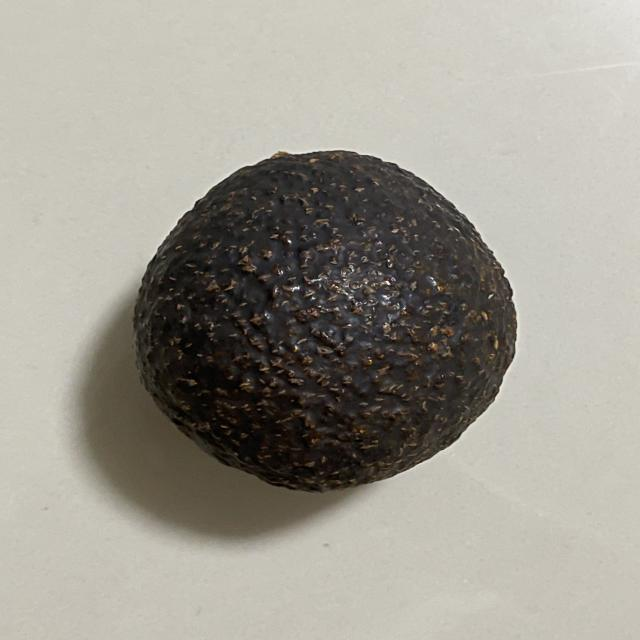Level2: (129, 143, 523, 495)
